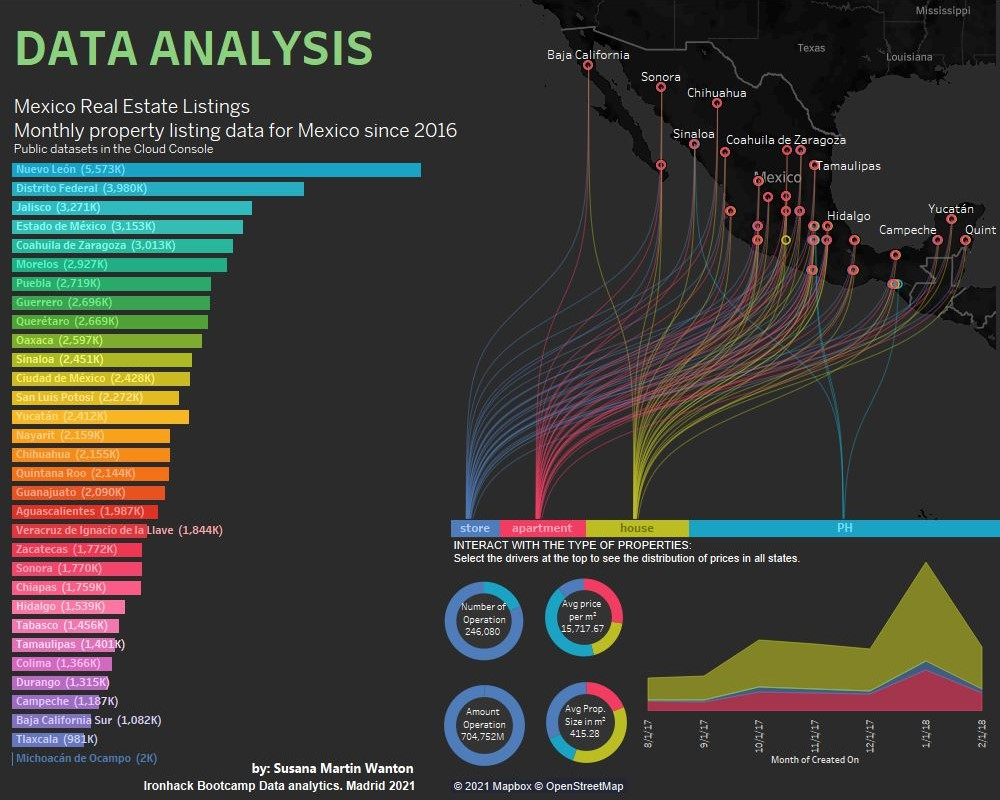

Layout of this report page (visuals, bound fields, positions):
{"tool":"tableau","page":{"name":"Dashboard 1","canvas":[1000,800],"ordinal":0},"visuals":[{"type":"worksheet","box":[11,6,539,159]},{"type":"worksheet","title":"Estados","mark":"Automatic","rows":["state_name"],"cols":["price"],"box":[12,160,429,609]},{"type":"worksheet","box":[451,537,541,30]},{"type":"worksheet","title":"Operation/date","mark":"Area","rows":["operation"],"cols":["created_on"],"box":[631,555,368,218]},{"type":"worksheet","title":"KPI 1 (3)","mark":"Pie","cols":["Calculation_804455526848184341","Calculation_804455526848446487"],"box":[525,565,118,105]},{"type":"worksheet","title":"KPI 1","mark":"Pie","cols":["Calculation_804455526848184341","Calculation_804455526848446487"],"box":[429,568,110,106]},{"type":"worksheet","title":"KPI 1 (4)","mark":"Pie","cols":["Calculation_804455526848184341","Calculation_804455526848446487"],"box":[531,668,111,109]},{"type":"worksheet","title":"KPI 1 (2)","mark":"Pie","cols":["Calculation_804455526848184341","Calculation_804455526848446487"],"box":[423,671,123,109]},{"type":"worksheet","box":[249,758,257,26]},{"type":"worksheet","box":[141,775,350,22]}]}

Visuals, with their boxes in screenshot pixels (x1, y1, x2, y2), scaled from the page's 1000x800 canvas onto the 1000x800 screenshot:
worksheet: l=11, t=6, r=550, b=165
"Estados" worksheet: l=12, t=160, r=441, b=769
worksheet: l=451, t=537, r=992, b=567
"Operation/date" worksheet (Area marks): l=631, t=555, r=999, b=773
"KPI 1 (3)" worksheet (Pie marks): l=525, t=565, r=643, b=670
"KPI 1" worksheet (Pie marks): l=429, t=568, r=539, b=674
"KPI 1 (4)" worksheet (Pie marks): l=531, t=668, r=642, b=777
"KPI 1 (2)" worksheet (Pie marks): l=423, t=671, r=546, b=780
worksheet: l=249, t=758, r=506, b=784
worksheet: l=141, t=775, r=491, b=797
